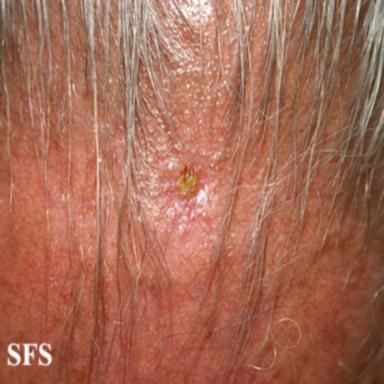basal-cell-carcinoma: (172, 162, 208, 199)
